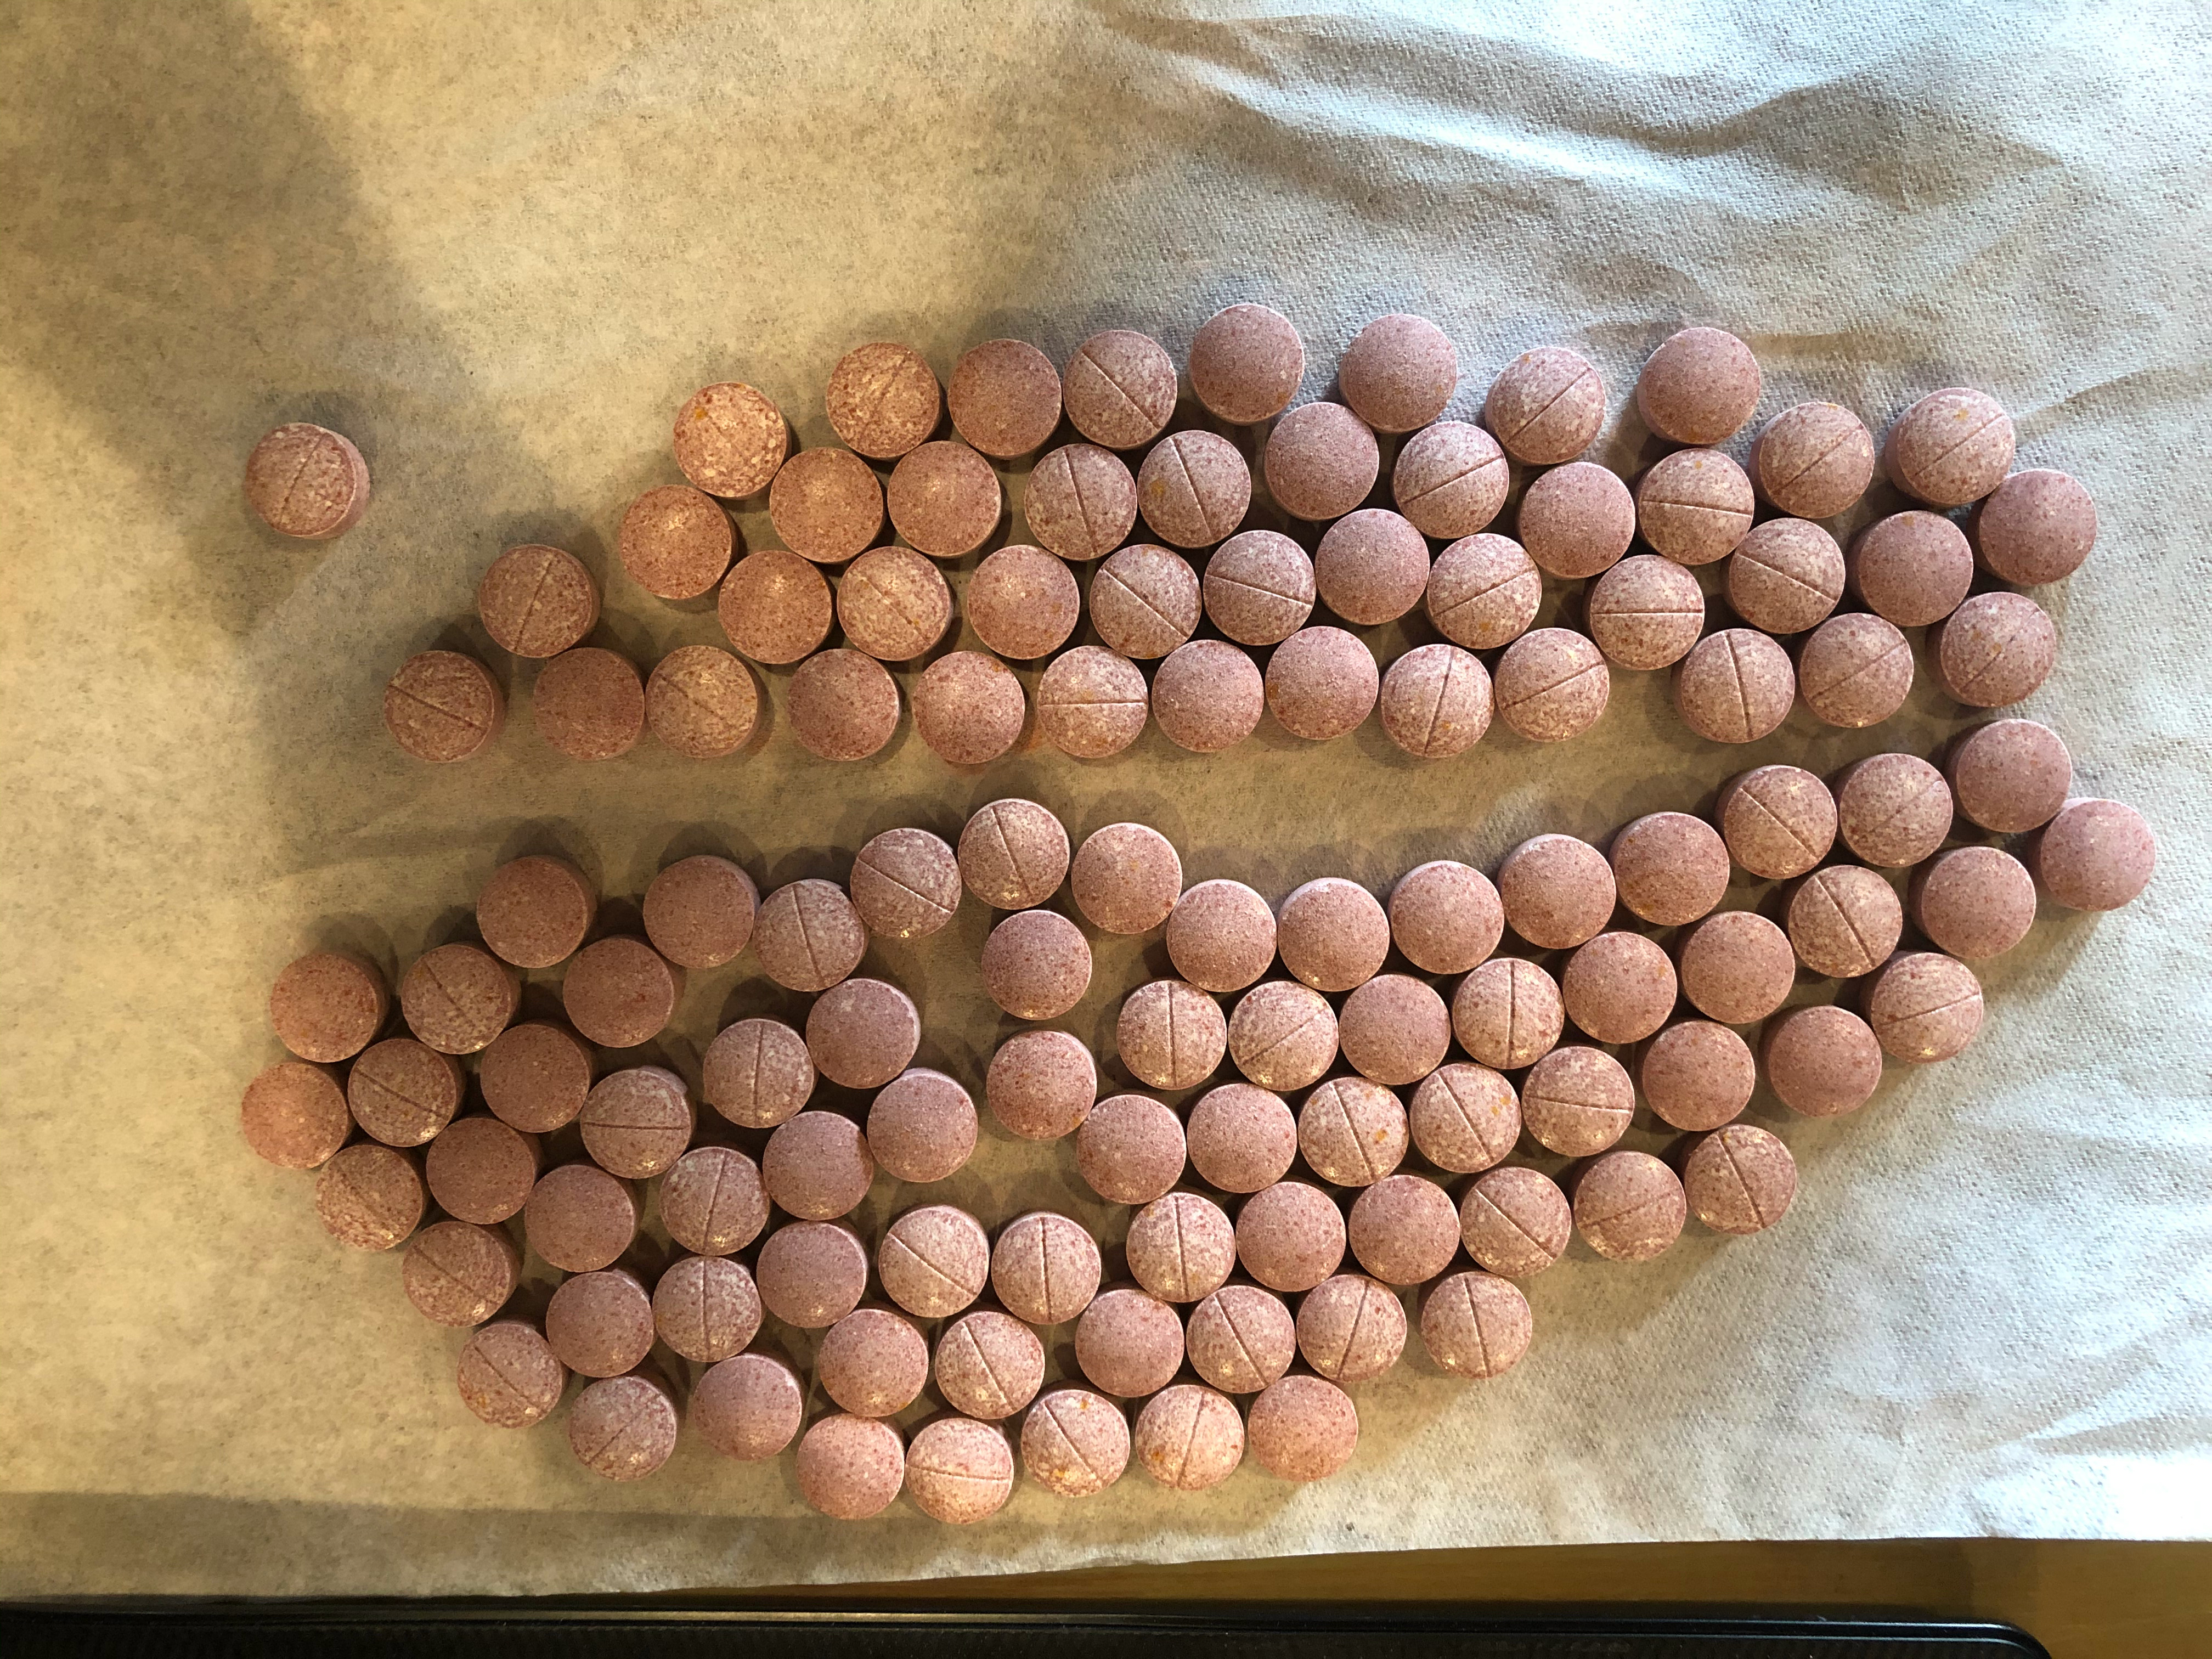tablet: (1054, 319, 1190, 455), (244, 418, 373, 556), (2029, 795, 2161, 927), (1888, 380, 2020, 507), (617, 481, 742, 613), (960, 538, 1092, 664), (777, 641, 906, 769), (1627, 446, 1761, 568), (1972, 467, 2106, 589), (819, 336, 946, 464), (1143, 631, 1270, 756), (1134, 429, 1261, 554), (942, 333, 1066, 462), (1635, 321, 1764, 444), (470, 849, 601, 971), (1338, 312, 1463, 437), (1031, 645, 1158, 769), (1750, 396, 1878, 519), (265, 945, 392, 1068), (1937, 589, 2066, 711), (1186, 298, 1306, 429), (1723, 518, 1853, 638), (1083, 537, 1207, 662), (1489, 624, 1615, 748), (1585, 551, 1709, 676), (474, 537, 601, 659), (1669, 624, 1801, 741), (1261, 624, 1385, 748), (1851, 509, 1979, 629), (1480, 343, 1609, 462), (556, 934, 685, 1053), (669, 375, 791, 498), (1390, 418, 1512, 542), (1426, 530, 1548, 653), (399, 939, 523, 1061), (637, 852, 761, 974), (1496, 828, 1618, 951), (1796, 612, 1921, 732), (1515, 460, 1642, 579), (416, 1112, 543, 1230), (1834, 753, 1958, 873), (381, 648, 507, 767), (1388, 857, 1508, 979), (1716, 763, 1838, 884), (749, 875, 873, 993), (1406, 1060, 1529, 1178), (1679, 1121, 1803, 1239), (752, 1107, 878, 1223), (1519, 1046, 1646, 1161), (813, 1305, 934, 1425), (981, 1025, 1101, 1145), (1263, 399, 1385, 518), (578, 1066, 700, 1185), (519, 1157, 641, 1276), (697, 1012, 819, 1131), (1677, 911, 1796, 1033), (1916, 842, 2038, 960), (401, 1216, 524, 1333), (754, 1218, 878, 1335), (1183, 1080, 1299, 1204), (834, 544, 960, 659), (1951, 714, 2078, 828), (343, 1035, 463, 1154), (803, 972, 925, 1089), (852, 823, 968, 945), (1233, 1180, 1355, 1297), (1608, 810, 1730, 927), (787, 1412, 911, 1527), (860, 1070, 984, 1185), (1764, 1004, 1888, 1119), (716, 547, 834, 666), (1200, 528, 1318, 647), (529, 647, 650, 763), (310, 1140, 430, 1256), (686, 1349, 806, 1466), (1575, 1148, 1691, 1269), (1559, 927, 1679, 1044), (1639, 1018, 1759, 1134), (644, 1251, 766, 1366), (1296, 1075, 1418, 1190), (763, 444, 888, 556), (887, 437, 1003, 556), (235, 1058, 354, 1175), (977, 908, 1096, 1025), (1338, 972, 1456, 1089), (1378, 645, 1498, 760), (1071, 1288, 1191, 1403), (1343, 1175, 1463, 1290), (474, 1021, 596, 1134), (1278, 875, 1392, 997), (1456, 955, 1569, 1077), (1163, 878, 1280, 995), (1791, 864, 1907, 981), (1012, 1385, 1130, 1500), (914, 648, 1028, 769), (1420, 1270, 1540, 1384), (1869, 953, 1989, 1066), (1069, 819, 1184, 936), (1318, 509, 1432, 627), (542, 1267, 660, 1380), (1181, 1283, 1299, 1396), (1294, 1272, 1413, 1385), (1228, 976, 1341, 1094), (1022, 444, 1143, 556), (655, 1145, 775, 1256), (1127, 1190, 1238, 1310), (643, 645, 758, 760), (880, 1201, 993, 1317), (958, 796, 1071, 913), (1115, 978, 1231, 1091), (1073, 1096, 1190, 1209), (564, 1371, 683, 1483), (1458, 1168, 1576, 1279), (991, 1211, 1104, 1326), (1132, 1382, 1247, 1495), (1244, 1373, 1360, 1485), (458, 1317, 571, 1431), (902, 1415, 1015, 1527), (941, 1309, 1047, 1427)
